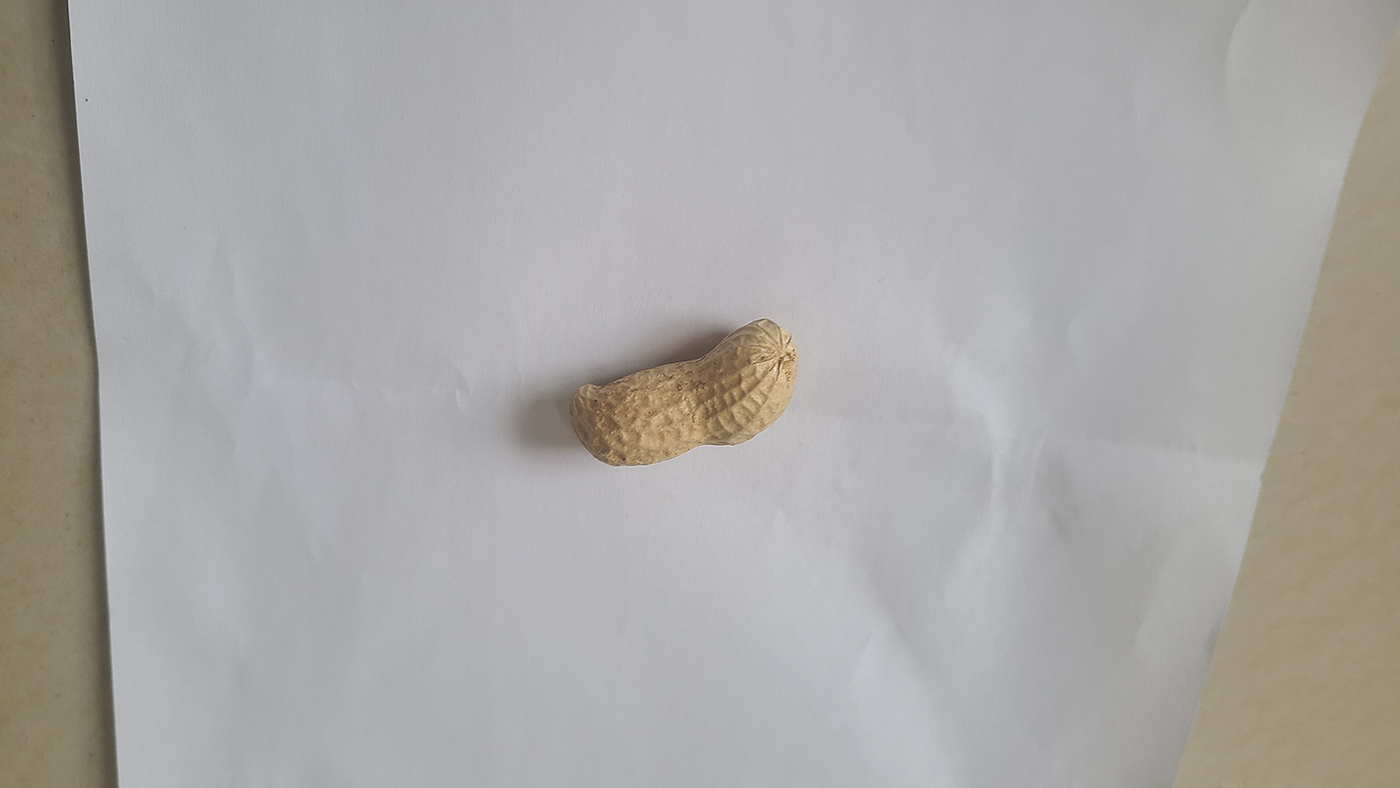h: (568, 317, 800, 467)
